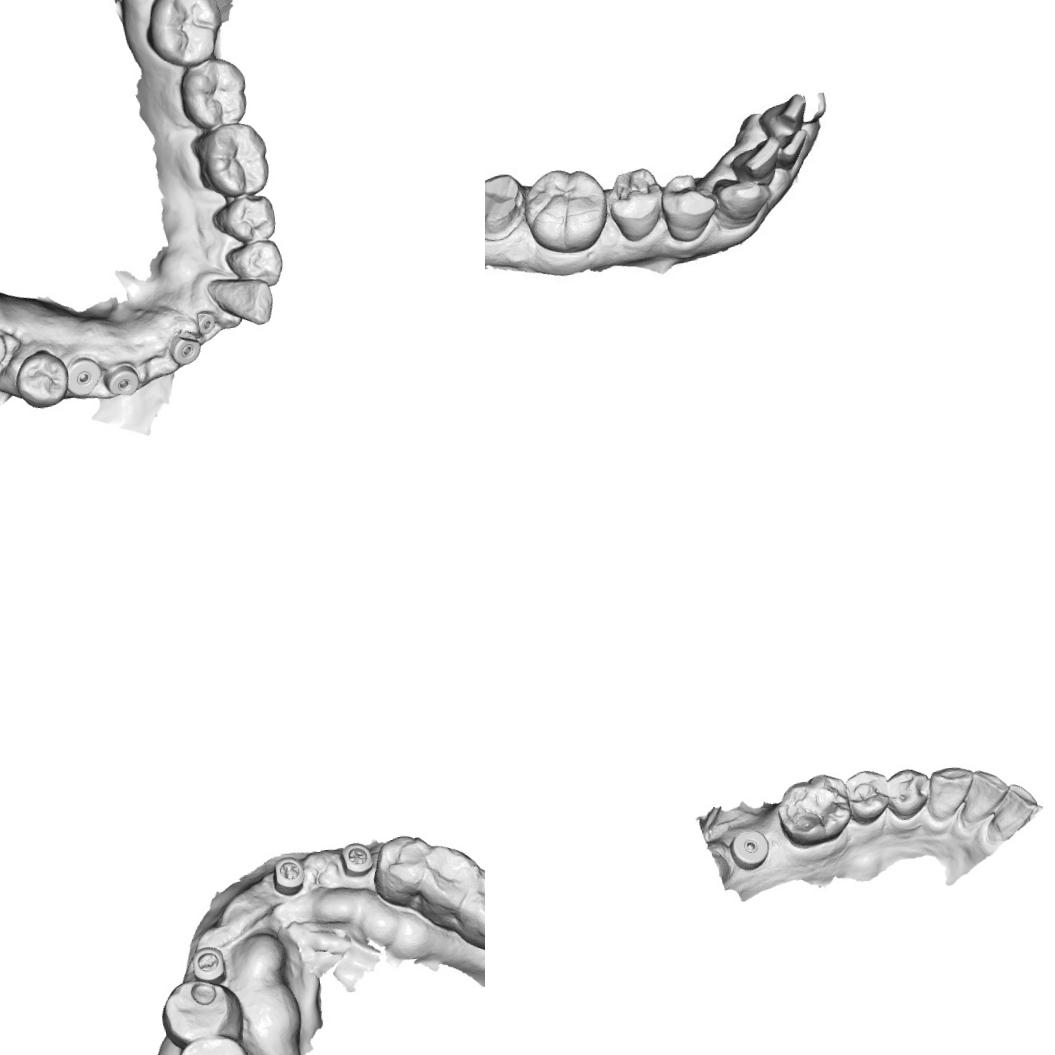canine: (206, 272, 276, 332), (713, 170, 771, 231), (923, 762, 979, 824)
crown: (485, 166, 525, 244)
implant: (727, 826, 773, 873), (62, 354, 106, 400), (268, 854, 308, 899), (188, 944, 228, 986), (337, 838, 376, 880), (101, 360, 142, 399), (165, 328, 203, 368), (194, 309, 218, 336), (0, 325, 11, 375)
incisor: (982, 780, 1042, 842), (956, 766, 1014, 826), (760, 94, 808, 140), (734, 138, 781, 180), (775, 122, 814, 167)
molar: (522, 166, 614, 256), (772, 770, 856, 852), (191, 119, 273, 201), (141, 0, 227, 71), (176, 52, 251, 132), (453, 866, 485, 954)
premolar: (158, 974, 246, 1046), (370, 832, 436, 910), (418, 840, 485, 916), (604, 167, 670, 244), (656, 174, 718, 244), (11, 346, 73, 413), (210, 192, 278, 248), (223, 236, 286, 292), (843, 766, 895, 827), (884, 765, 934, 822), (167, 1029, 262, 1055)
